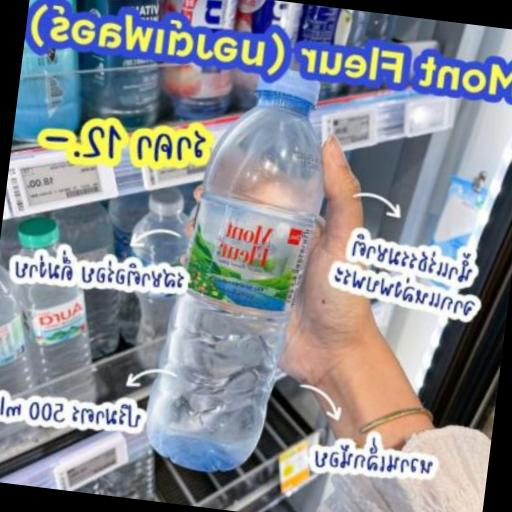Coca: (124, 44, 346, 486)
